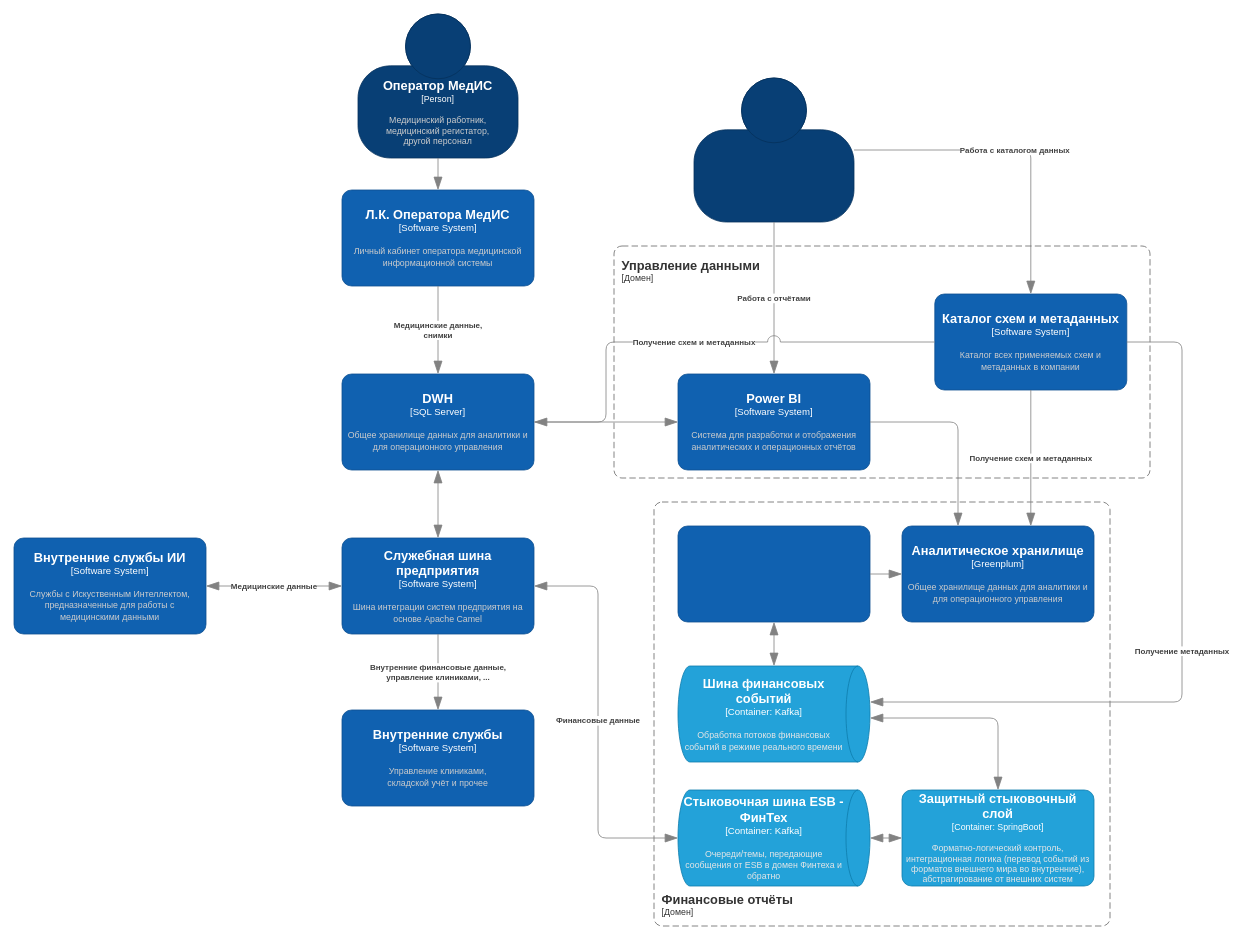
Some shapes in this 1243 by 940 pixel diagram are drawn without their labels. The centre of each missing label's shape, as x and y in pixels:
Продуктовый аналитик [Person] Аналитик продуктовой команды какого-либо домена: the point at 773,149
ФинТех Службы [Software System] Набор служб, выполняющих финансовые задачи: the point at 773,573
